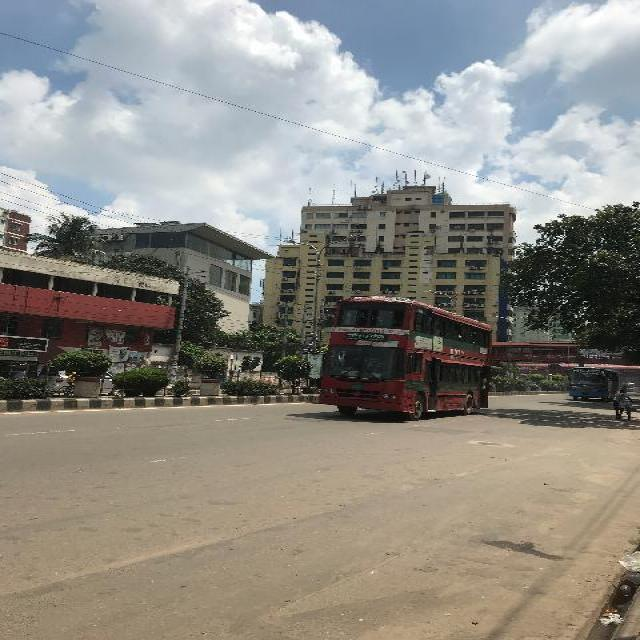bike: (615, 390, 638, 425)
vehicle: (317, 296, 493, 422), (567, 367, 619, 404)
